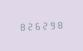eight: (17, 21, 24, 31), (58, 19, 65, 29)
nine: (50, 19, 57, 30)
six: (34, 20, 41, 31)
two: (25, 20, 32, 31), (42, 19, 49, 30)
